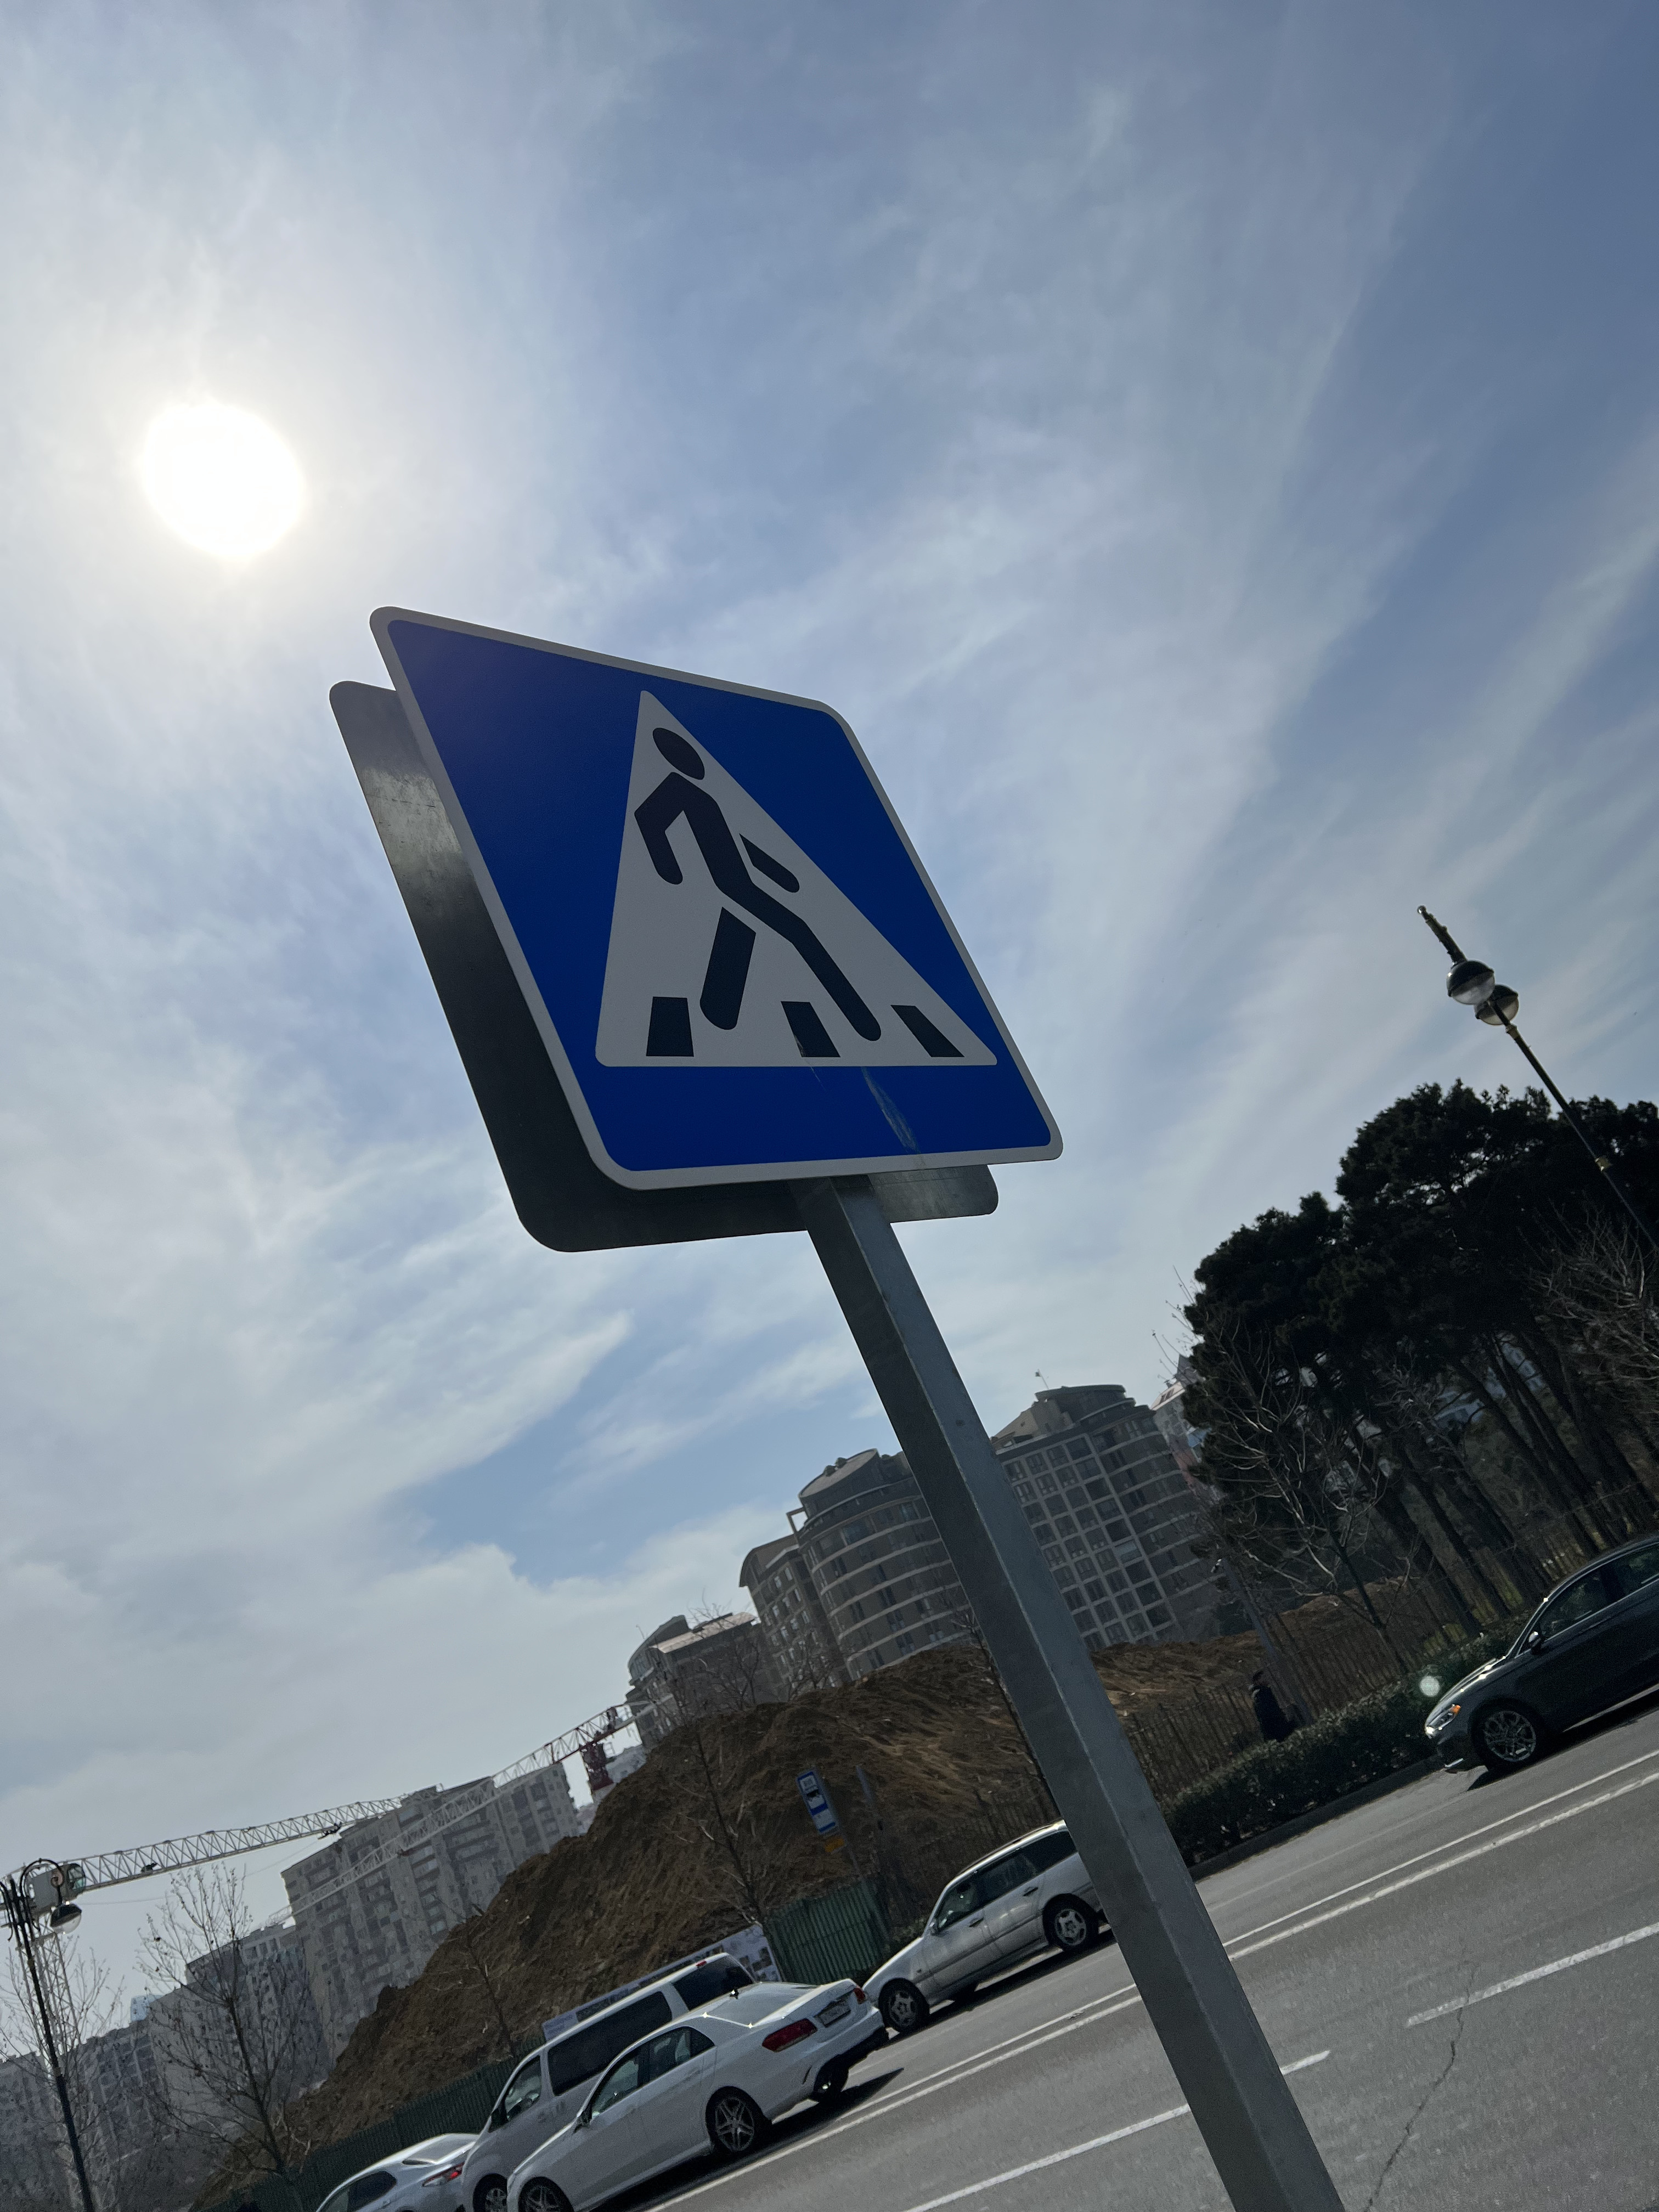Pedestrian Crossing: (373, 608, 1042, 1162)
